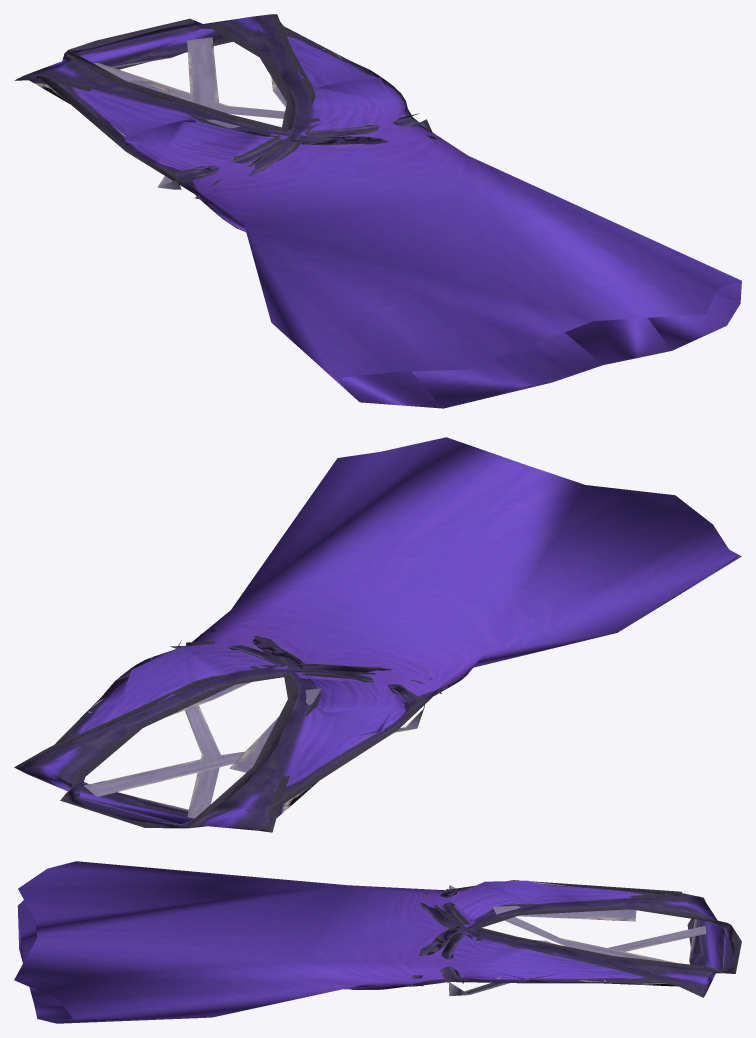
The model's file is HalterTopDress_Ground.fbx.
3 views of the same model, one above another, from view 1: azimuth 30°, elevation 25°; view 2: azimuth 150°, elevation 25°; view 3: azimuth 270°, elevation 25° (orthographic). The views are drawn at different scales.
Parts seen in each view (by area): view 1: HalterTopDress; view 2: HalterTopDress; view 3: HalterTopDress.
Boxes of the visible parts, x1,y1,x2,y2 form: HalterTopDress: (14, 14, 741, 408); HalterTopDress: (14, 437, 741, 832); HalterTopDress: (14, 861, 741, 1023).
Size of the model in its own units: 0.2145 by 0.0246 by 0.42.
